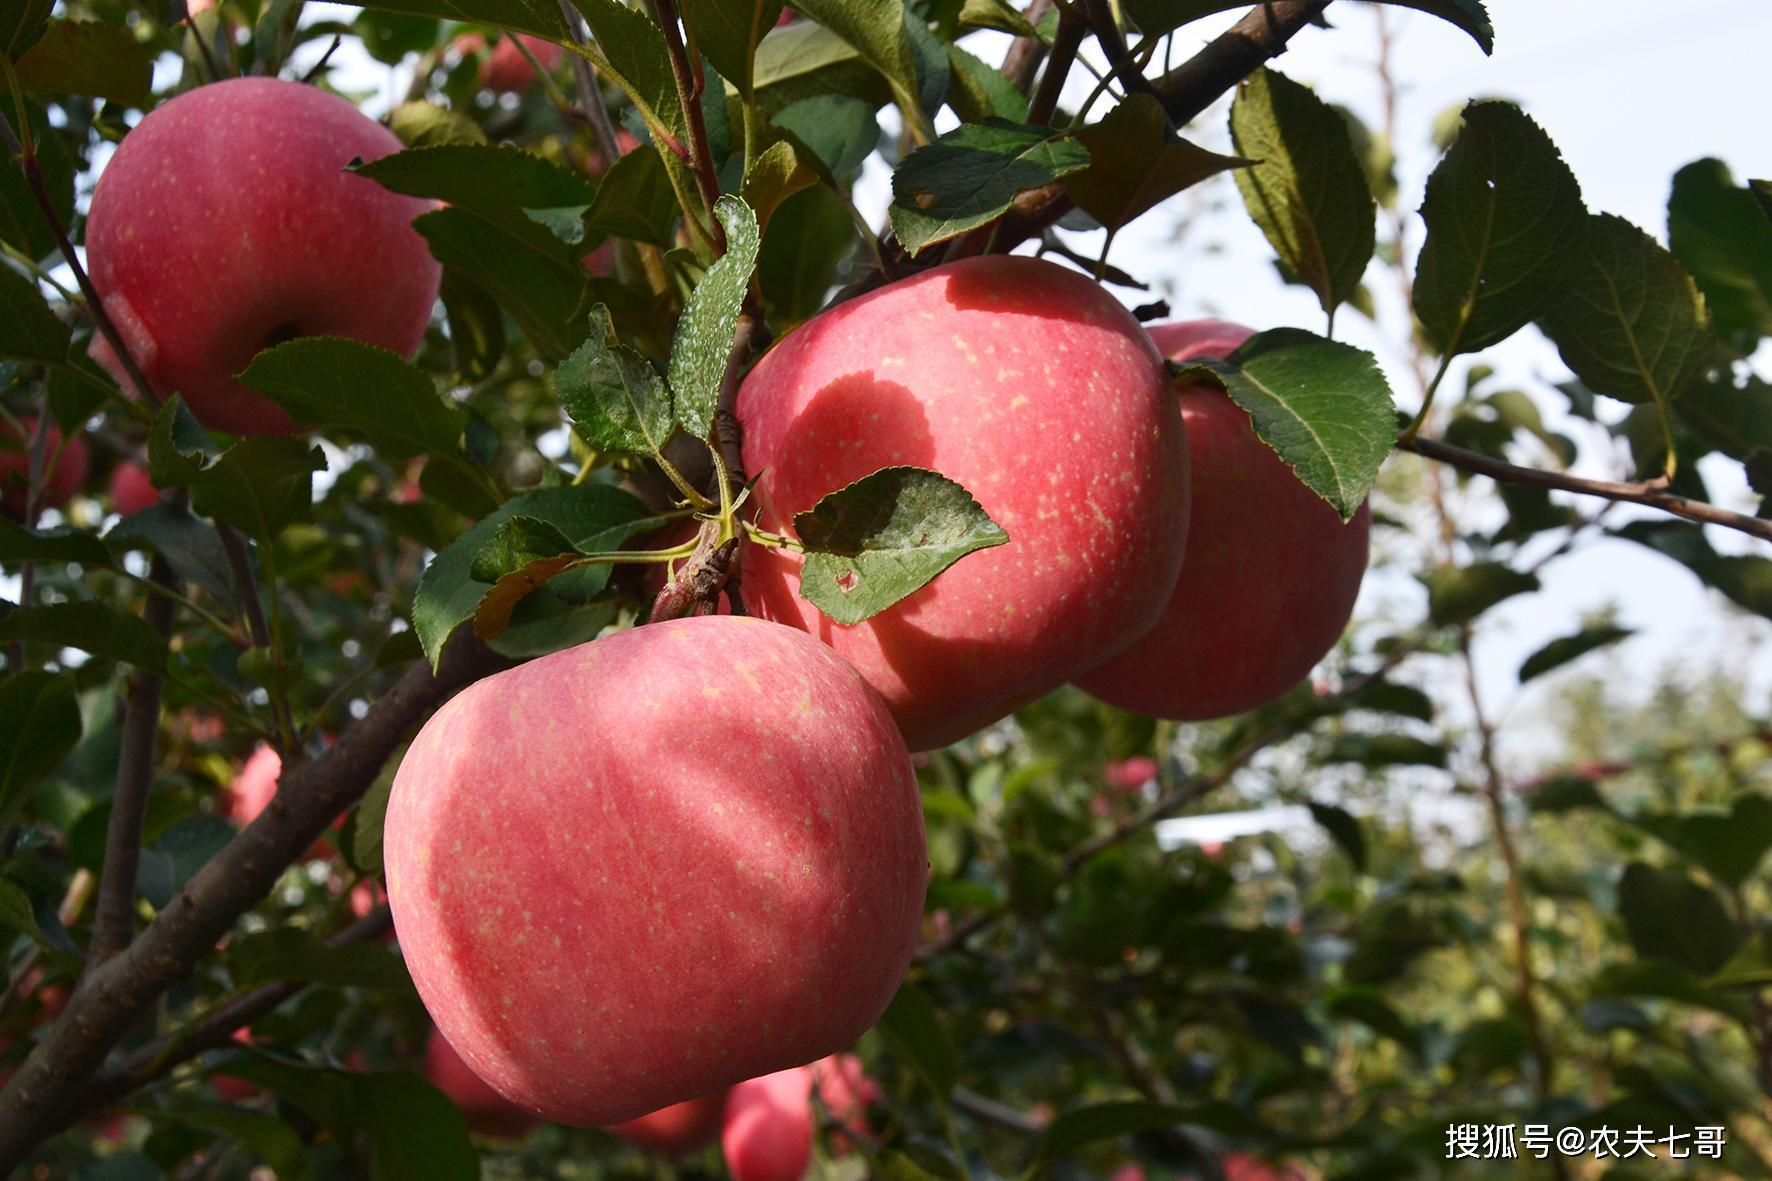apple: (379, 614, 924, 1118), (731, 254, 1194, 729), (79, 75, 440, 432), (1065, 322, 1368, 717)
